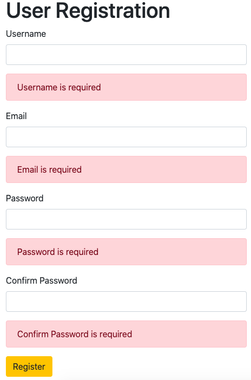error_message: (18, 327, 135, 341), (17, 245, 102, 258), (14, 81, 104, 93), (17, 163, 85, 175)
